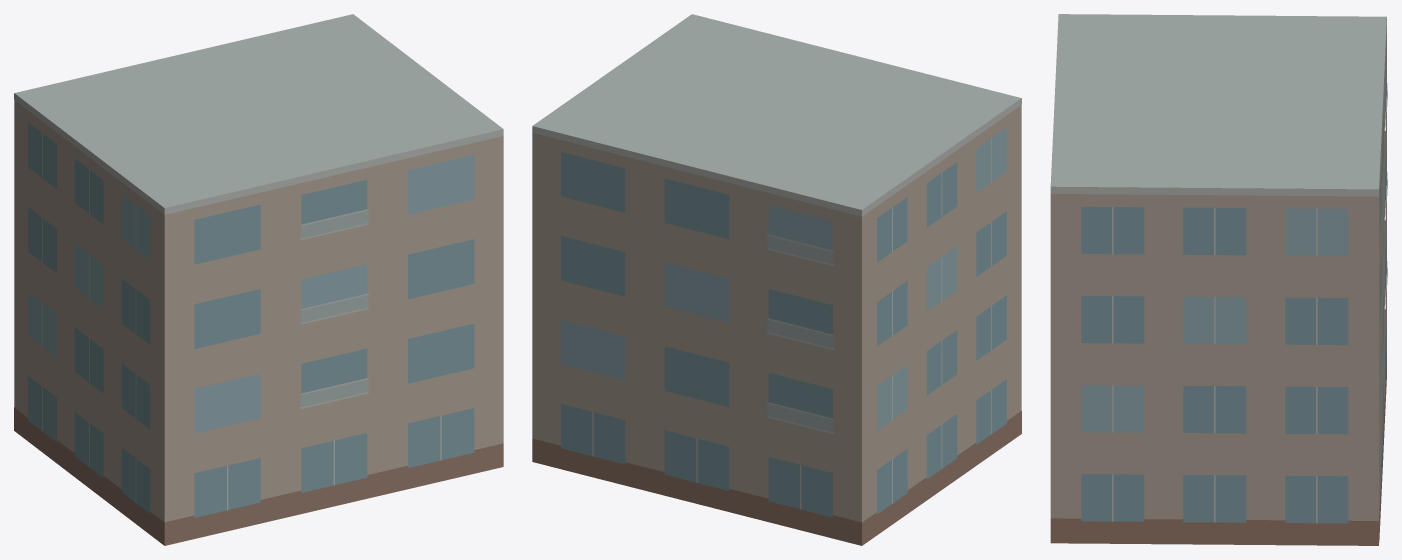
Rendered from residential-fcaa29ce-f382-4a6a-a74f-c00399d001cf.glb.
3 renders of one model, left to right at view 1: azimuth 30°, elevation 25°; view 2: azimuth 150°, elevation 25°; view 3: azimuth 270°, elevation 25°, orthographic. The views are drawn at different scales.
Visible parts, largest first — view 1: residential-fcaa29ce-f382-4a6a-a74f-c00399d001cf.tmp; view 2: residential-fcaa29ce-f382-4a6a-a74f-c00399d001cf.tmp; view 3: residential-fcaa29ce-f382-4a6a-a74f-c00399d001cf.tmp.
Part boxes in pixels (bbox=[...]): residential-fcaa29ce-f382-4a6a-a74f-c00399d001cf.tmp: bbox=[14, 14, 503, 545]; residential-fcaa29ce-f382-4a6a-a74f-c00399d001cf.tmp: bbox=[532, 14, 1021, 545]; residential-fcaa29ce-f382-4a6a-a74f-c00399d001cf.tmp: bbox=[1050, 14, 1387, 545].
Size of the model in its own units: 12.88 by 12.2 by 10.46.
